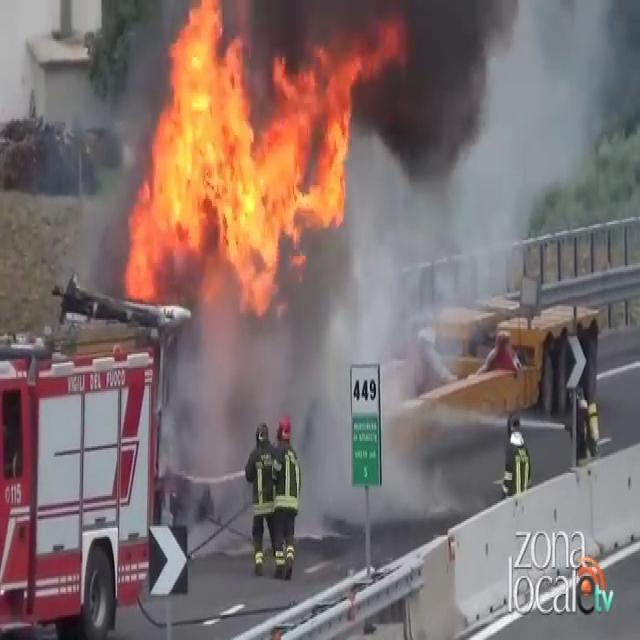Fire: (122, 1, 373, 305)
Smoke: (353, 1, 640, 241)
